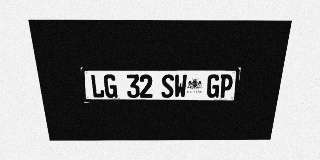2: (139, 74, 152, 98)
3: (126, 74, 140, 98)
G: (103, 74, 118, 98), (206, 74, 220, 98)
L: (90, 74, 105, 98)
P: (219, 74, 233, 98)
S: (161, 74, 174, 98)
W: (174, 74, 187, 98)
